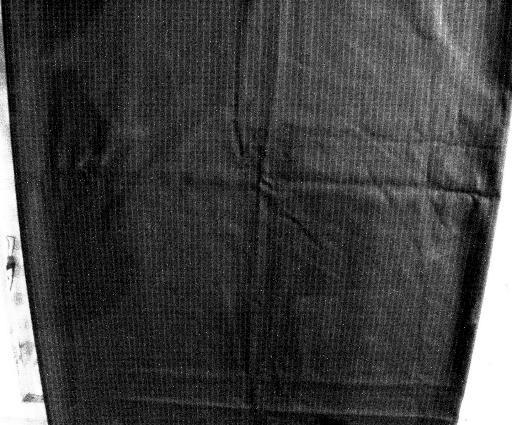fabric_perfect: (0, 0, 512, 418)
